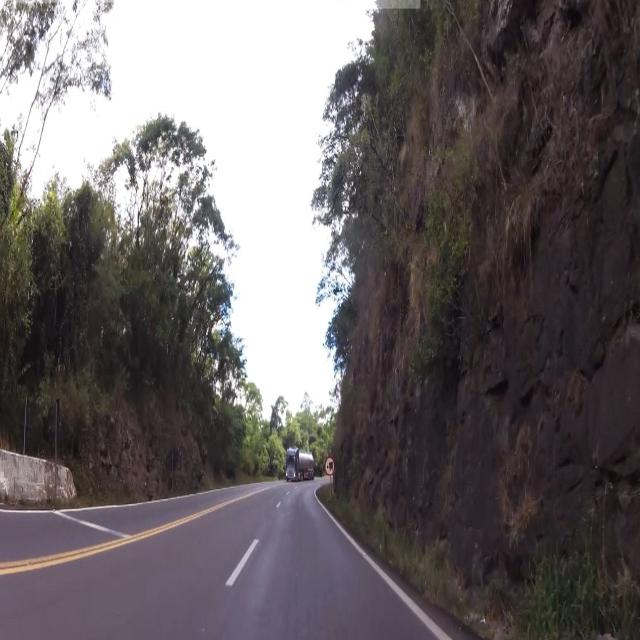R-27: (323, 453, 337, 478)
